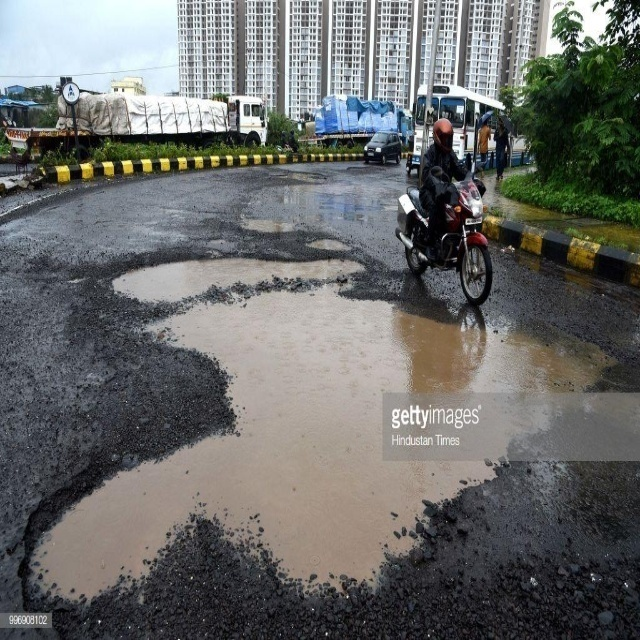pothole: (72, 225, 398, 616)
